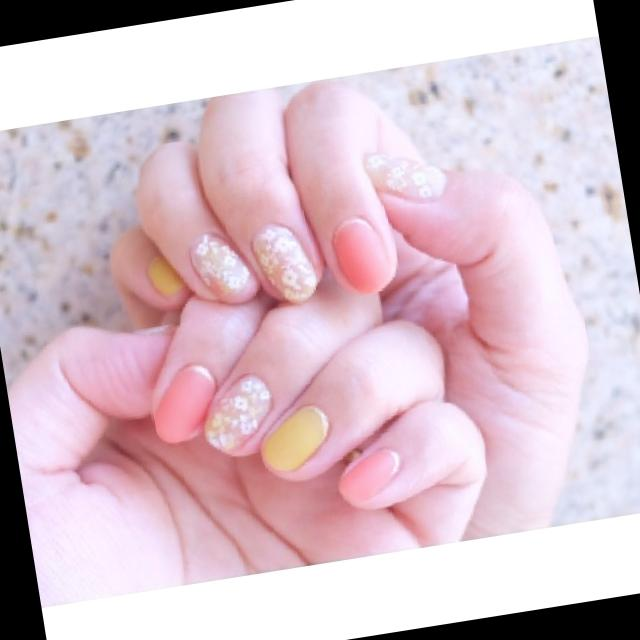Nail: (252, 224, 319, 302), (204, 375, 271, 451), (153, 365, 216, 443), (333, 217, 392, 293), (261, 406, 329, 471), (365, 153, 446, 201), (190, 233, 251, 296), (339, 449, 401, 503), (146, 256, 186, 296)
